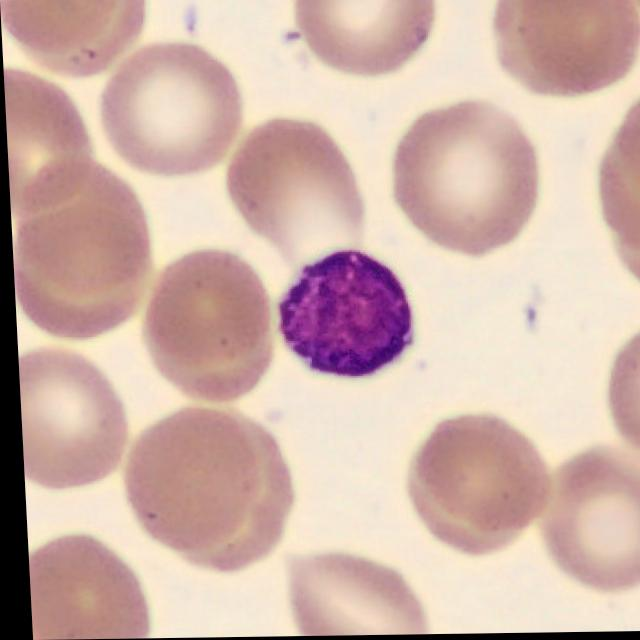Linfocito: (277, 251, 407, 377)
